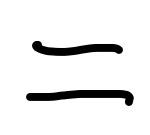eqv: (26, 38, 133, 107)
